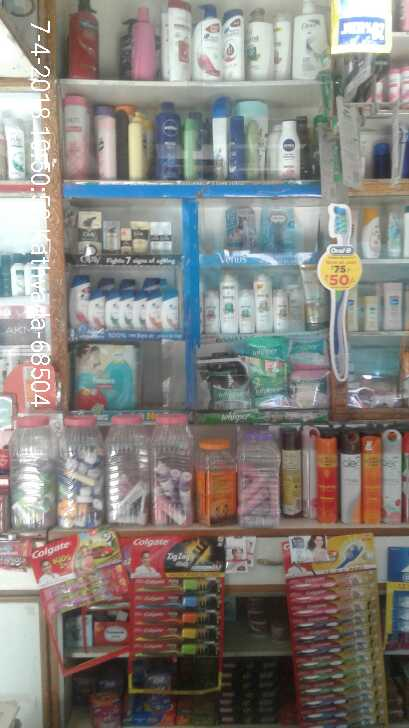venus: (261, 207, 298, 252), (225, 205, 256, 254)
